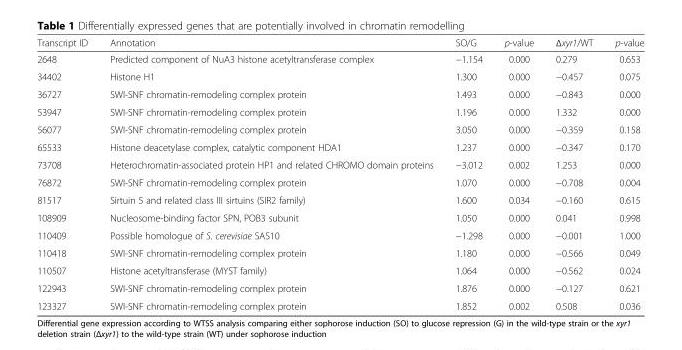table: (36, 36, 643, 311)
table column: (98, 36, 443, 311), (36, 36, 98, 311), (544, 36, 603, 311), (492, 36, 544, 311), (443, 36, 492, 311), (603, 36, 643, 311)
table column header: (36, 36, 643, 50)
table row: (36, 84, 643, 102), (36, 102, 643, 120), (36, 137, 643, 155), (36, 155, 643, 173), (36, 190, 643, 208), (36, 208, 643, 226), (36, 243, 643, 261), (36, 278, 643, 296), (36, 50, 643, 67), (36, 67, 643, 84), (36, 120, 643, 137), (36, 173, 643, 190), (36, 226, 643, 243), (36, 261, 643, 278), (36, 296, 643, 311), (36, 36, 643, 50)
